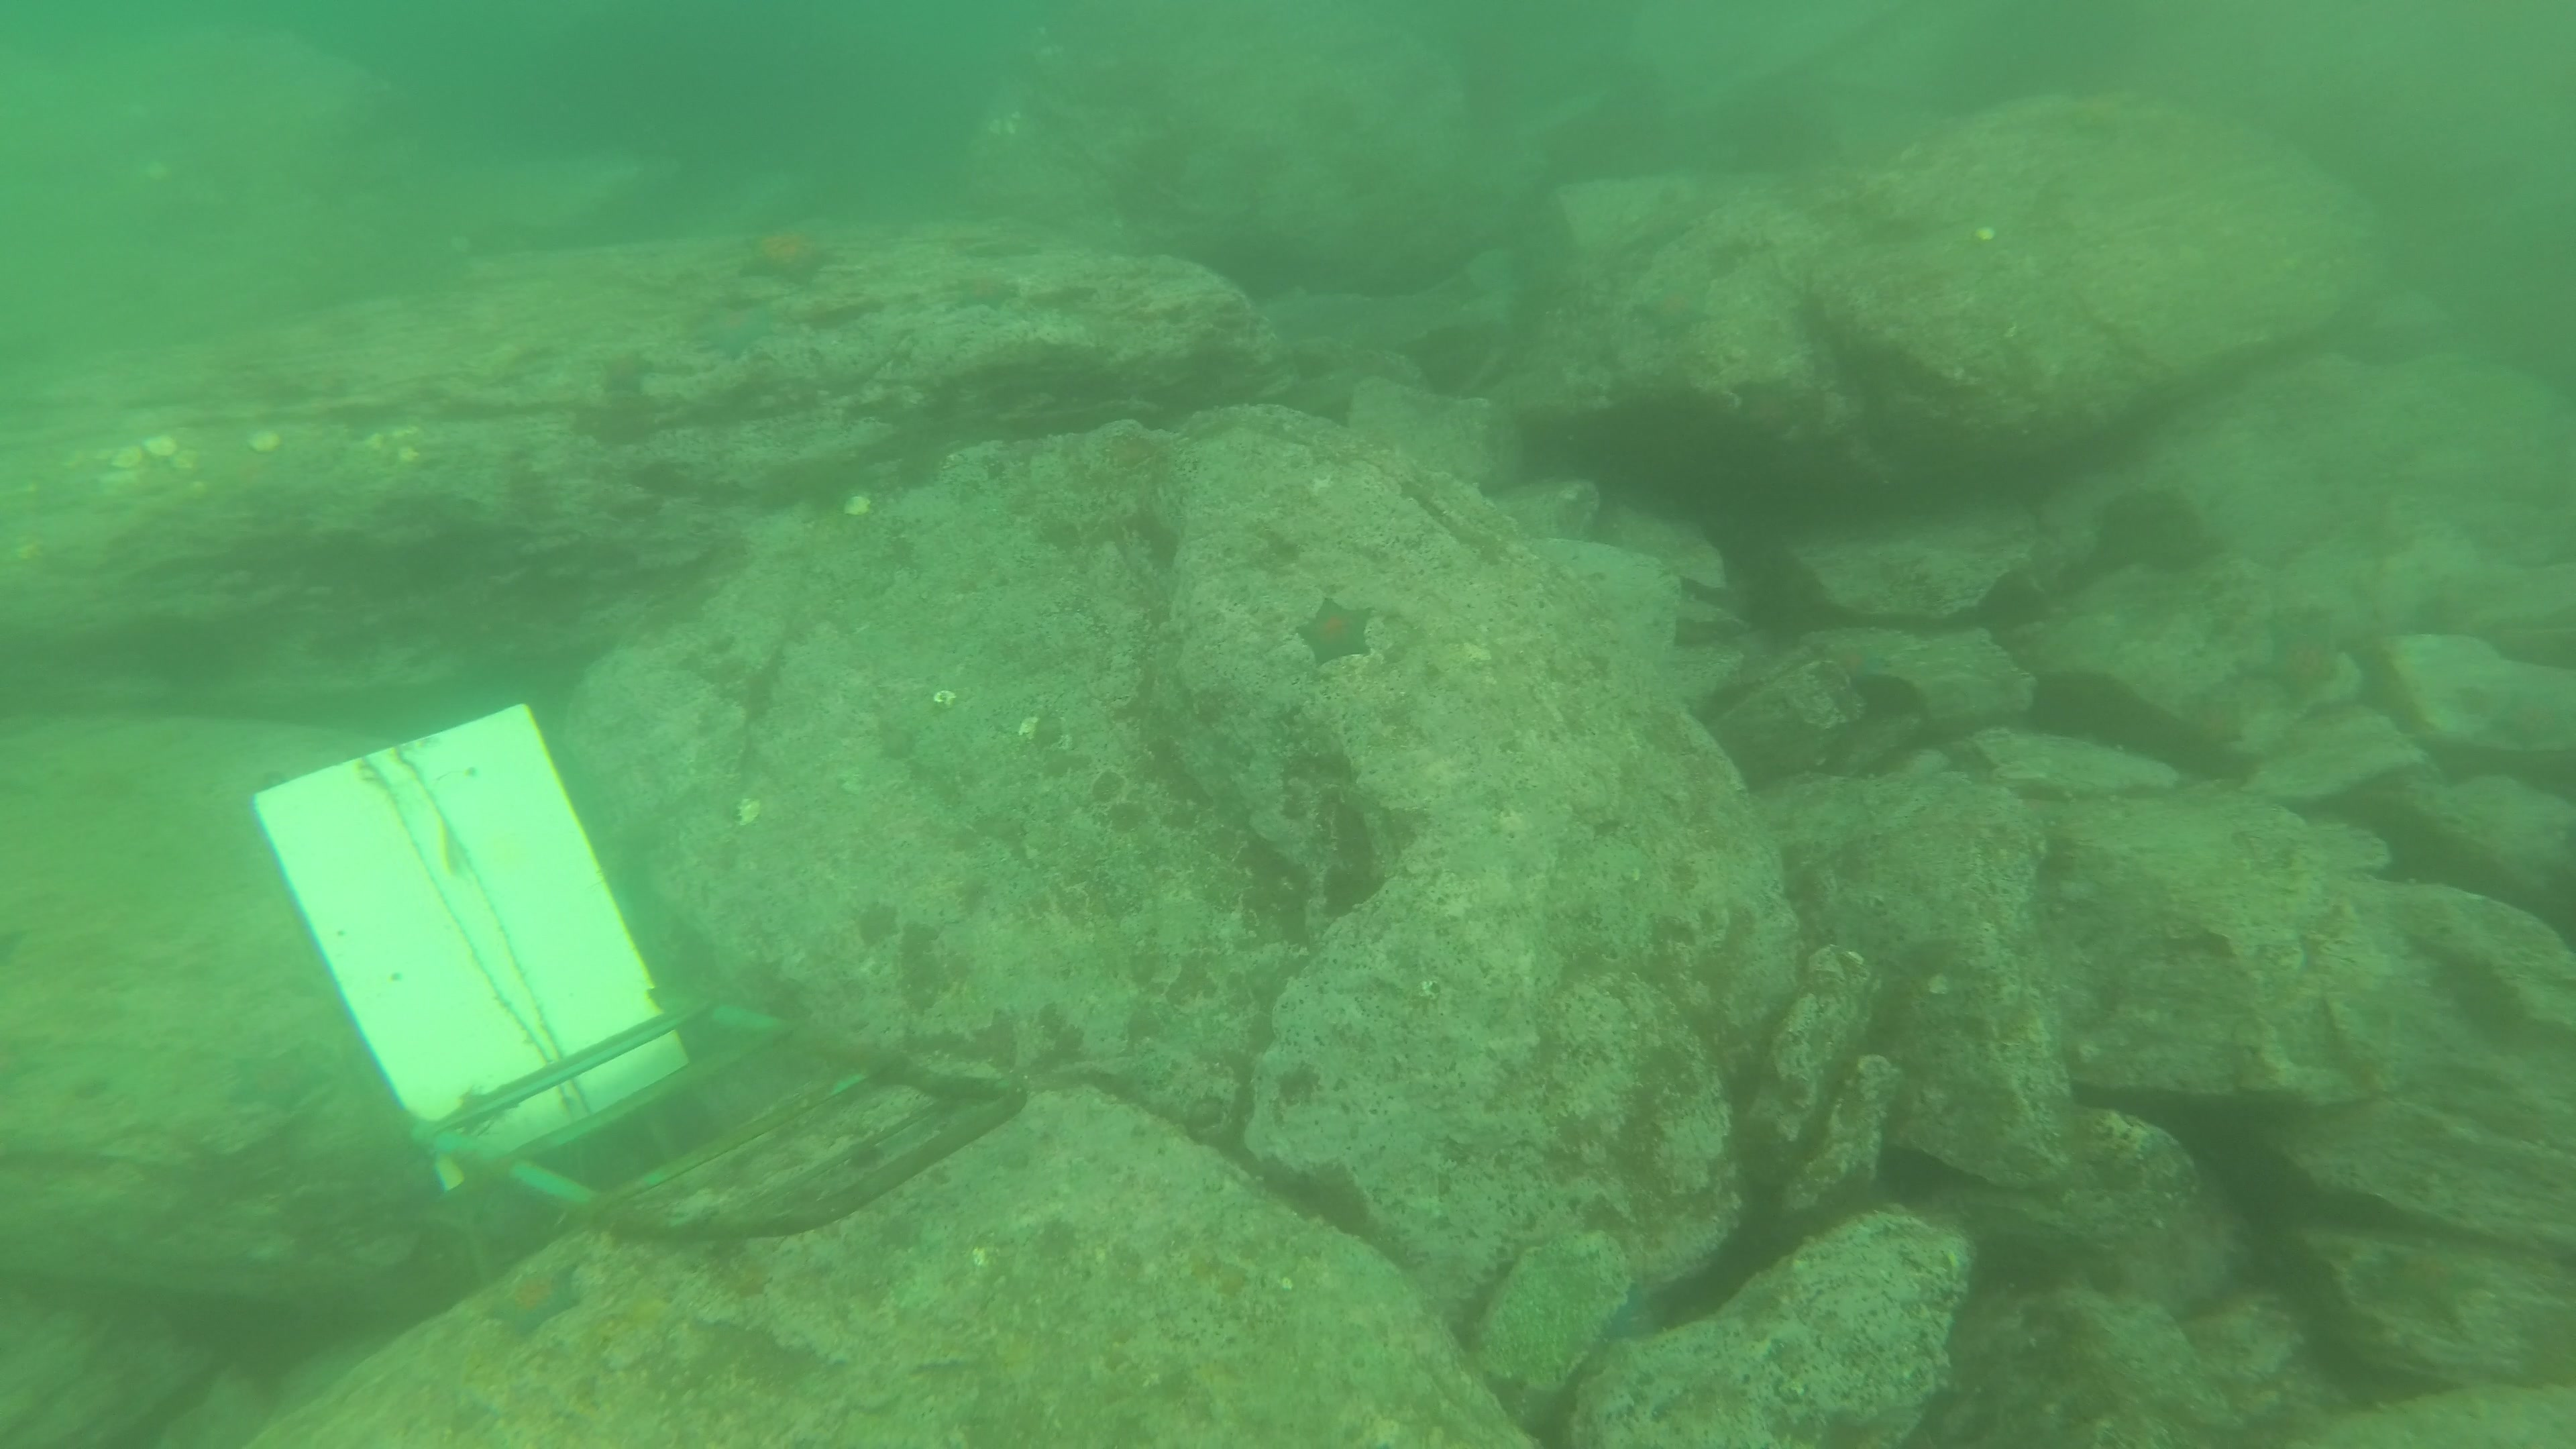starfish: (2373, 1240, 2488, 1327), (483, 1261, 582, 1336), (740, 232, 839, 288), (1297, 598, 1371, 669), (1629, 281, 1713, 334), (695, 306, 775, 357), (441, 1154, 501, 1219), (600, 349, 653, 395), (957, 274, 1019, 310)
